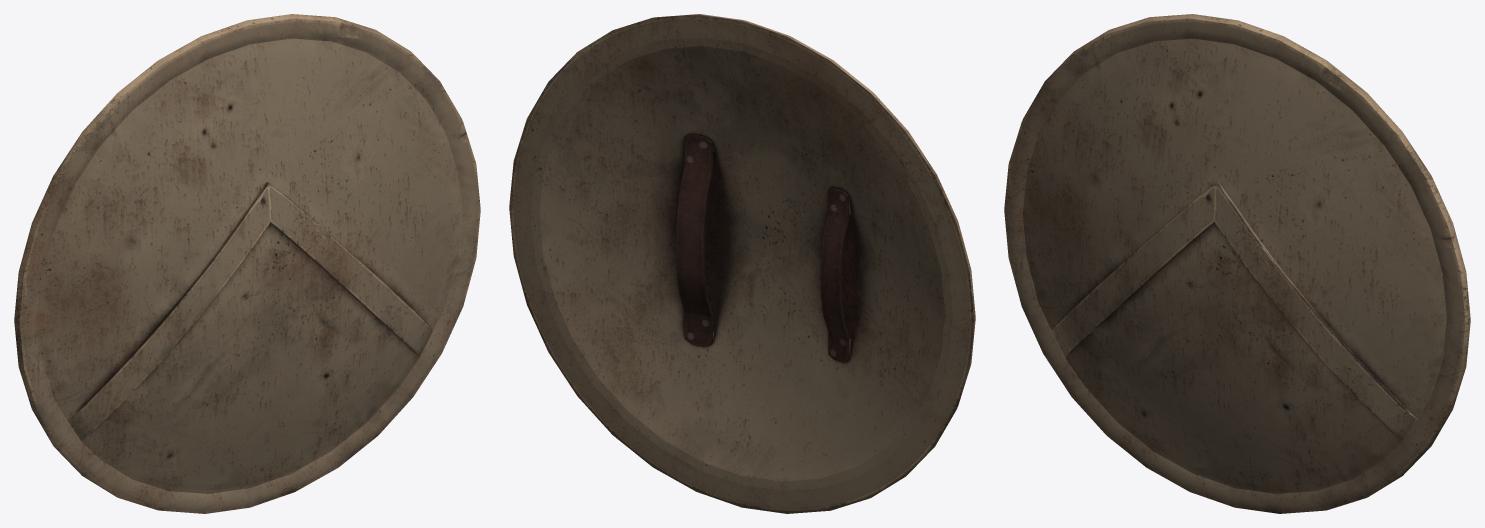
Rendered from pbr_spartan_shield.glb.
The picture shows the model from 3 angles, left to right: view 1: azimuth 30°, elevation 25°; view 2: azimuth 150°, elevation 25°; view 3: azimuth 330°, elevation 25°; orthographic projection.
Visible parts, largest first — view 1: Shield_low; view 2: Shield_low; view 3: Shield_low.
Boxes of the visible parts, box(x1,y1,x2,y2) form: Shield_low: box(14, 14, 480, 513); Shield_low: box(509, 14, 975, 513); Shield_low: box(1004, 14, 1470, 513).
Bounding box in the file's own units: 1.08 × 1.08 × 0.1007.
Materials: 1 (1 with a texture image).
